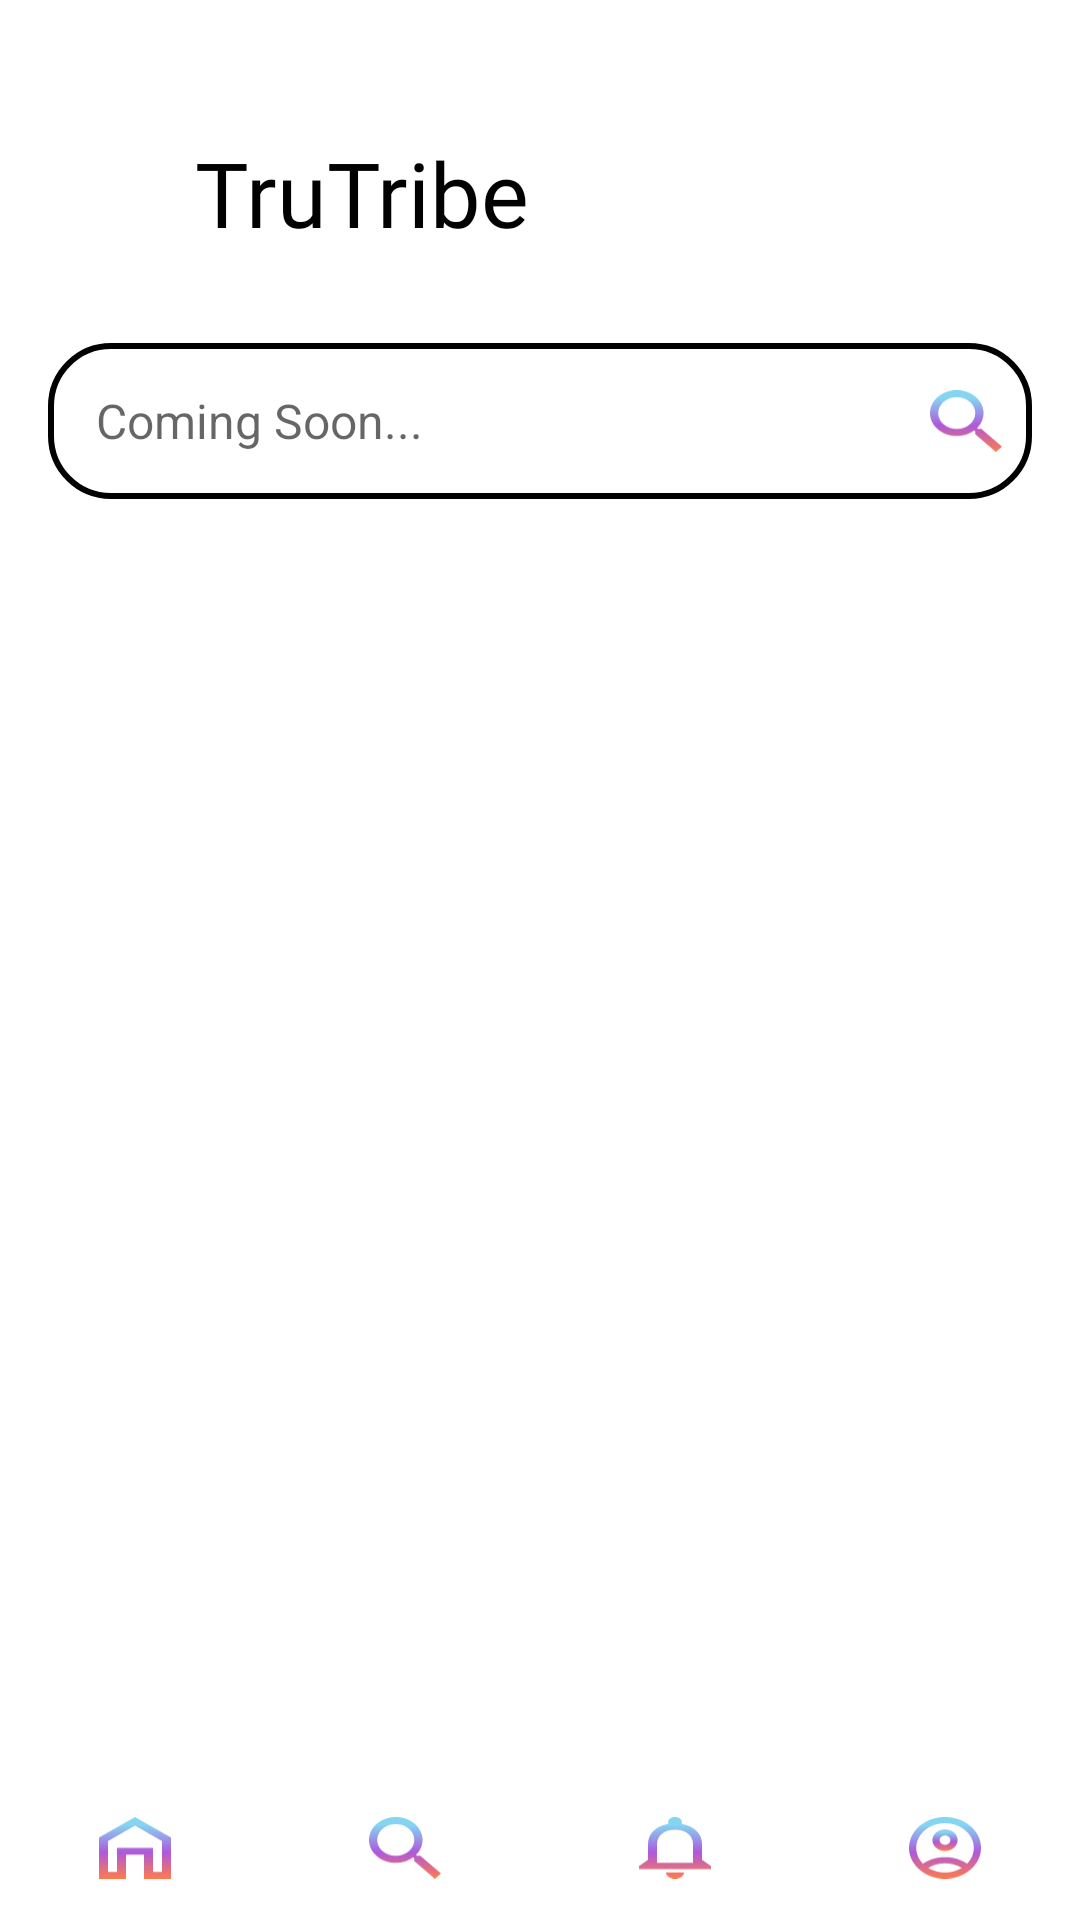

Icon click points for this 1080px x 1920px phone screenshot, format point (x, y):
Search: point (966, 421)
